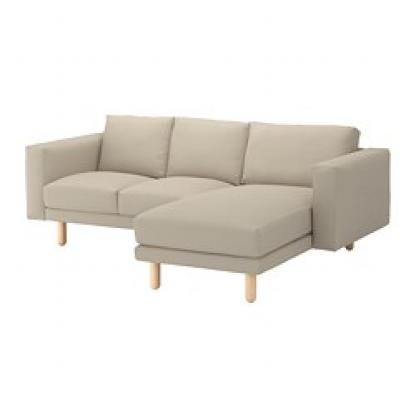Sofa: (18, 91, 391, 308)
